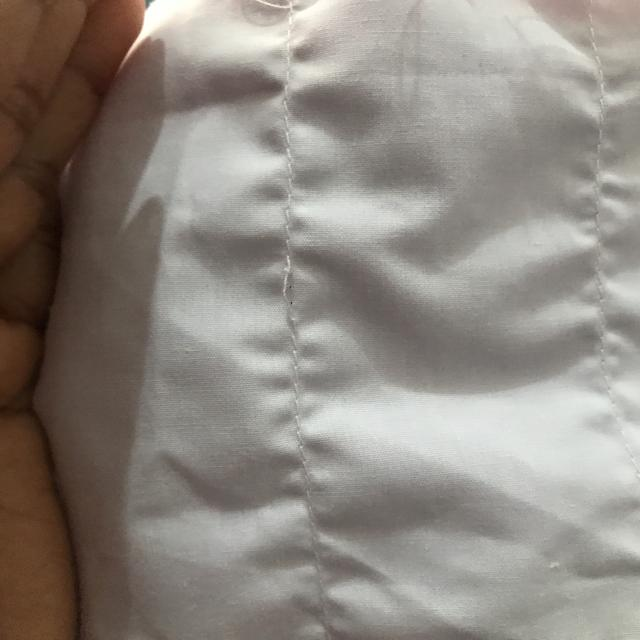skip: (259, 256, 319, 331)
